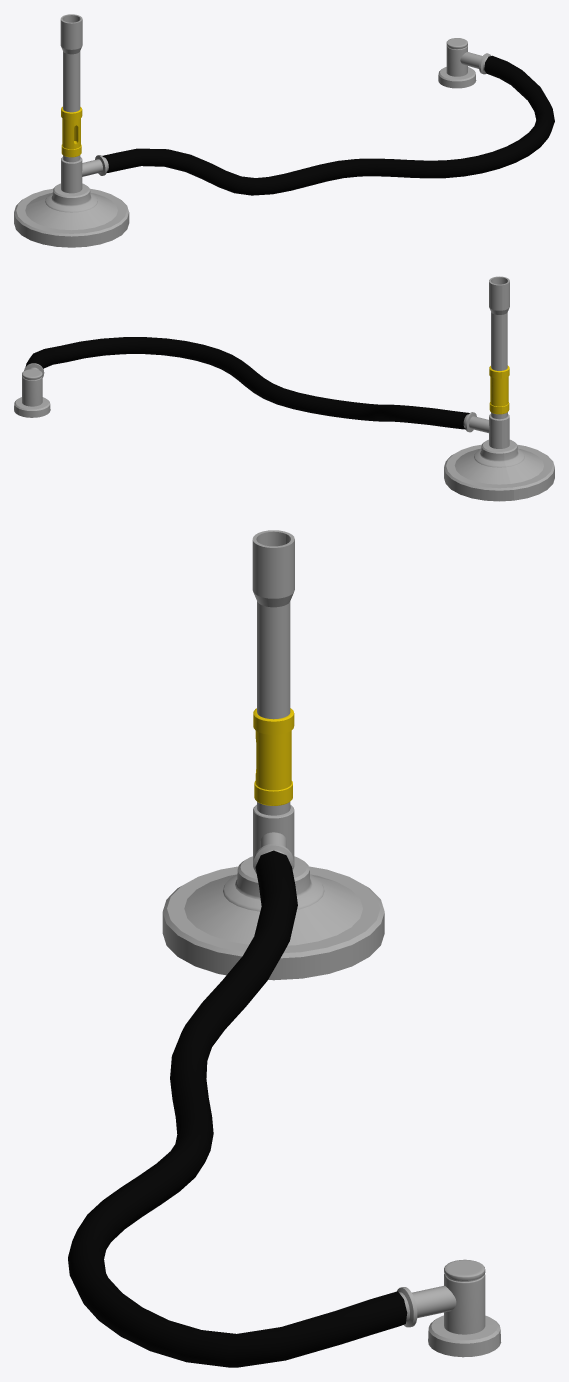
The model's file is Bunsen_Burner.fbx.
3 views of the same model, one above another, from view 1: azimuth 30°, elevation 25°; view 2: azimuth 150°, elevation 25°; view 3: azimuth 270°, elevation 25° (orthographic). The views are drawn at different scales.
Parts seen in each view (by area): view 1: Tube, Burner, Gas_Tube; view 2: Burner, Tube, Gas_Tube; view 3: Tube, Burner, Gas_Tube.
Part boxes in pixels (left/top/right/bottom): Tube: left=102, top=55, right=554, bottom=195; Burner: left=14, top=14, right=129, bottom=247; Gas_Tube: left=438, top=38, right=491, bottom=88; Burner: left=444, top=276, right=554, bottom=501; Tube: left=25, top=337, right=469, bottom=429; Gas_Tube: left=14, top=363, right=50, bottom=417; Tube: left=68, top=850, right=407, bottom=1367; Burner: left=162, top=530, right=384, bottom=980; Gas_Tube: left=397, top=1259, right=501, bottom=1357.
Bounding box in the file's own units: 47.65 × 17.99 × 17.73.
